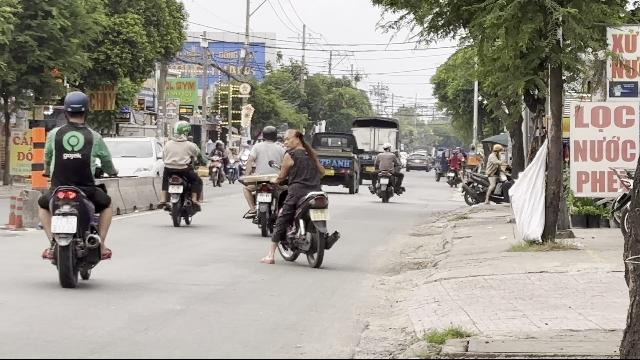helmet: (62, 90, 90, 122), (172, 120, 190, 138)
licenseplate: (52, 215, 76, 233), (310, 209, 330, 221), (168, 185, 184, 193)
motorcyclist: (34, 88, 116, 286), (269, 122, 339, 268), (158, 120, 204, 226)
nohelmet: (282, 128, 304, 152)
